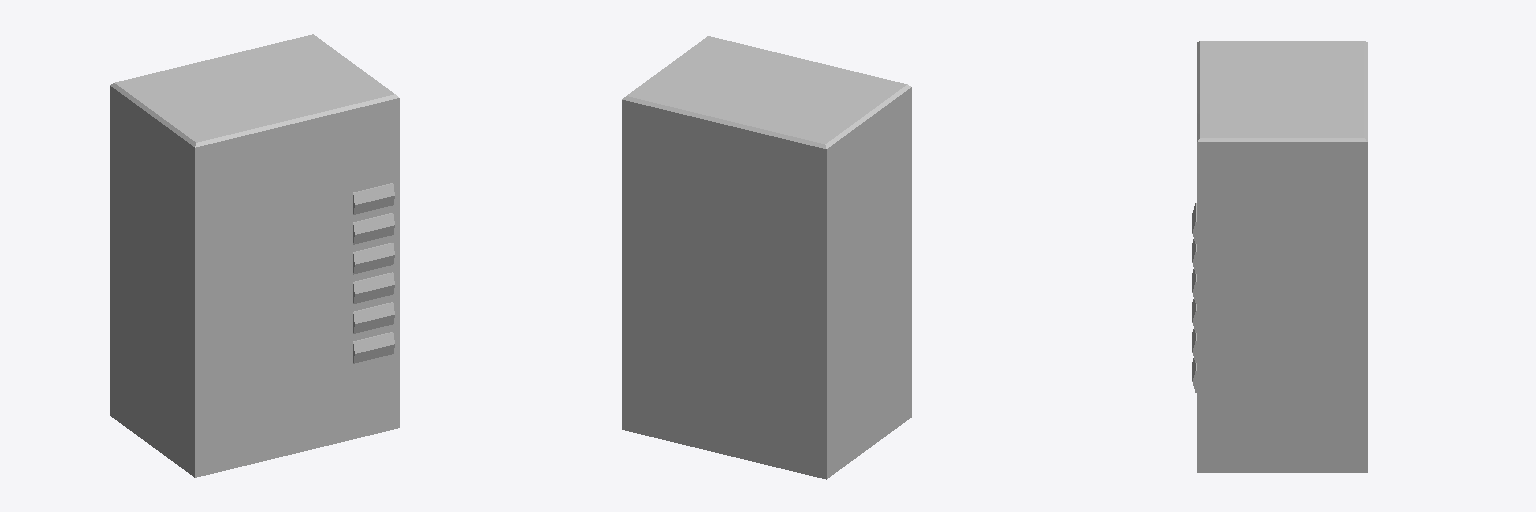
File: vending_machine.obj
The picture shows the model from 3 angles: view 1: azimuth 30°, elevation 25°; view 2: azimuth 150°, elevation 25°; view 3: azimuth 270°, elevation 25°; orthographic projection.
Parts seen in each view (by area): view 1: vending_machine; view 2: vending_machine; view 3: vending_machine.
Boxes of the visible parts, box(x1,y1,x2,y2) form: vending_machine: box(110, 34, 399, 477); vending_machine: box(622, 36, 911, 479); vending_machine: box(1192, 41, 1367, 472).
Size of the model in its own units: 3.6 by 5.6 by 2.67.